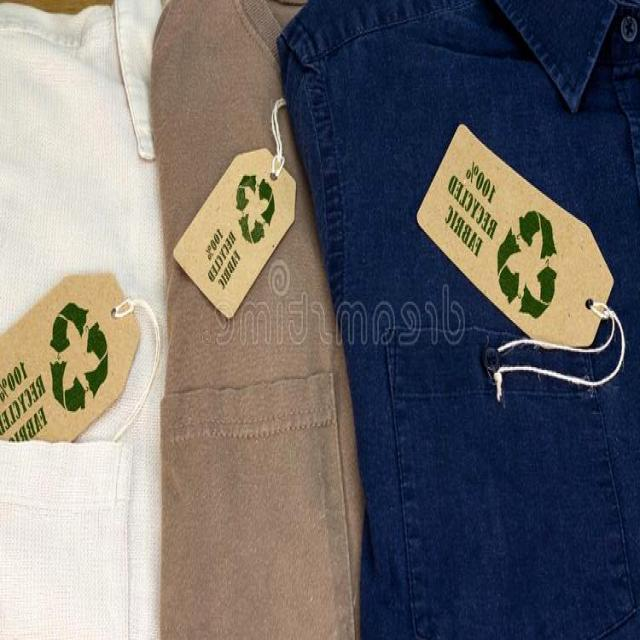clothes: (36, 54, 542, 600)
